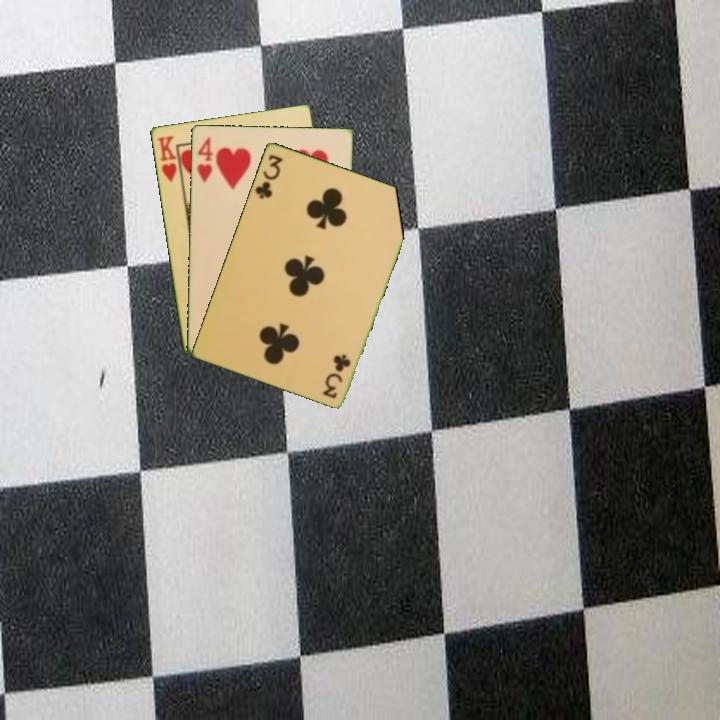3c: (251, 150, 286, 201), (320, 350, 353, 401)
4h: (193, 133, 215, 185)
Kh: (154, 132, 184, 185)
